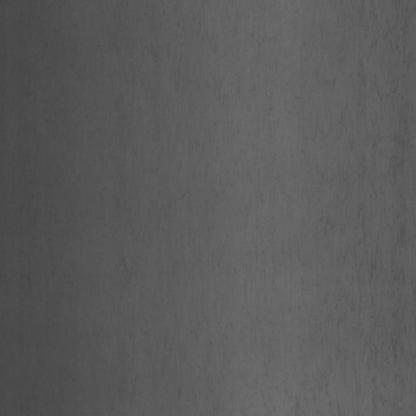silk_spot: (120, 58, 259, 285)
